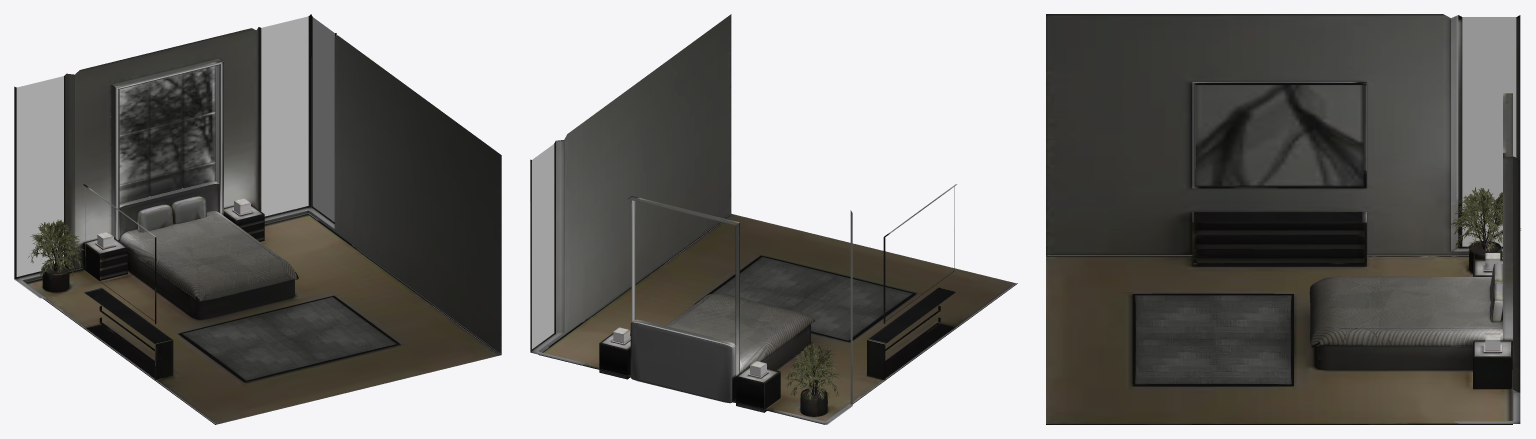
The model's file is chambre-zen.glb.
3 renders of one model, left to right at view 1: azimuth 30°, elevation 25°; view 2: azimuth 150°, elevation 25°; view 3: azimuth 270°, elevation 25°, orthographic. The views are drawn at different scales.
Size of the model in its own units: 4.78 by 3.12 by 5.48.
Materials: 4 (3 with a texture image).
